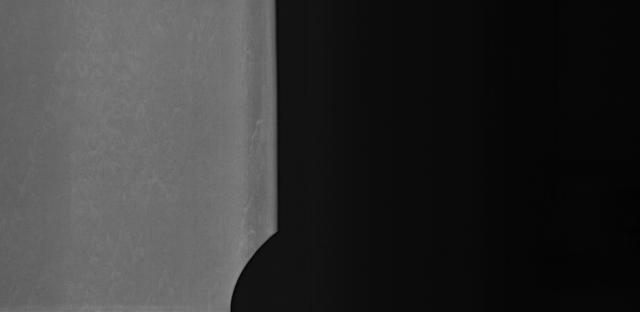crescent_gap: (217, 222, 291, 312)
